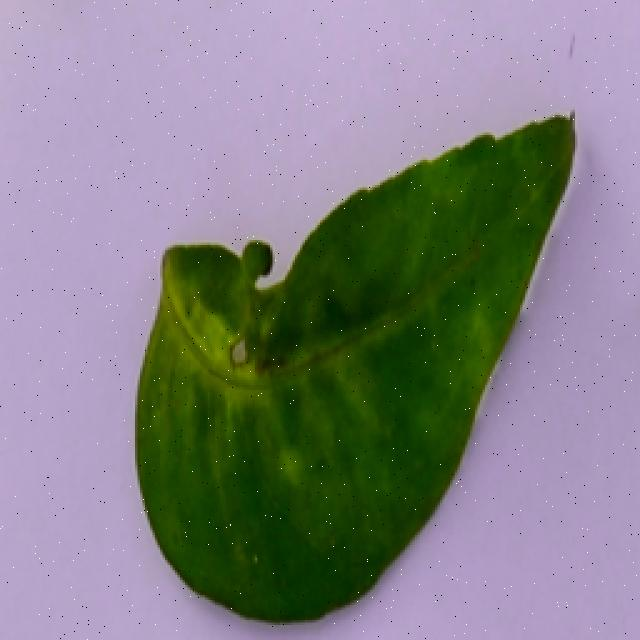greening: (90, 88, 592, 632)
